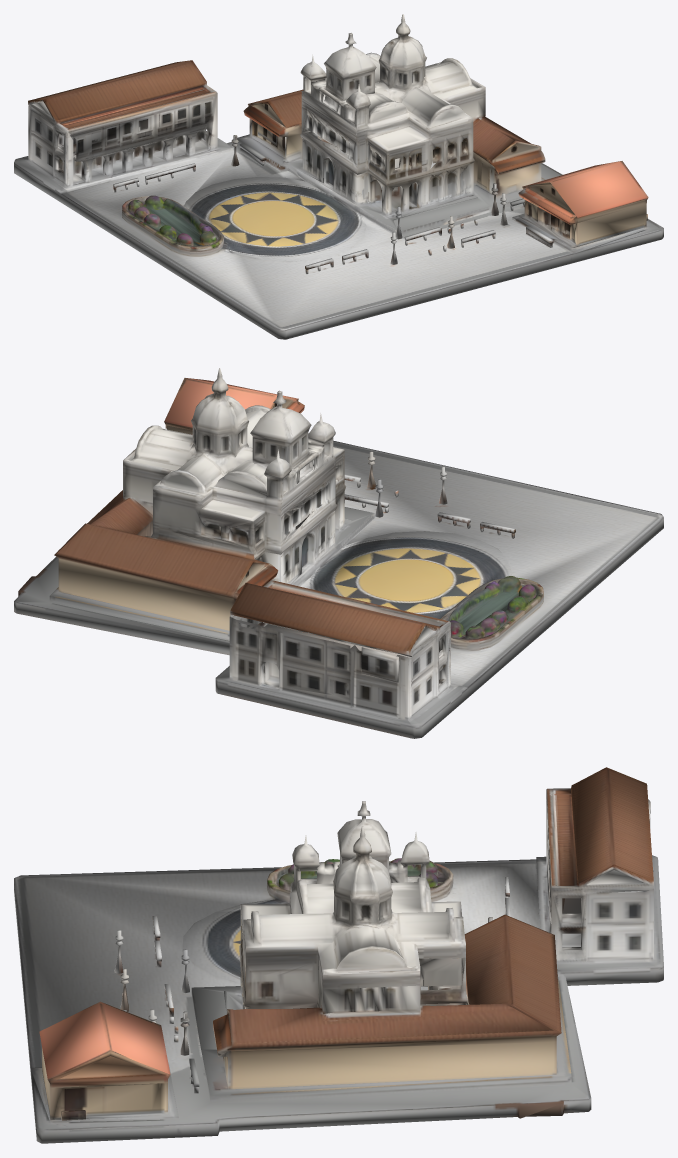
Rendered from coliseo de miguel.fbx.
3 renders of one model, top to bottom at view 1: azimuth 30°, elevation 25°; view 2: azimuth 150°, elevation 25°; view 3: azimuth 270°, elevation 25°, orthographic. The views are drawn at different scales.
Visible parts, largest first — view 1: mesh_rep_0_ori_repair_quad; view 2: mesh_rep_0_ori_repair_quad; view 3: mesh_rep_0_ori_repair_quad.
Boxes of the visible parts, x1,y1,x2,y2 form: mesh_rep_0_ori_repair_quad: [14, 14, 663, 339]; mesh_rep_0_ori_repair_quad: [14, 368, 663, 738]; mesh_rep_0_ori_repair_quad: [14, 767, 663, 1143].
Size of the model in its own units: 83.38 by 31.92 by 83.38.
1 material, 1 textured.
